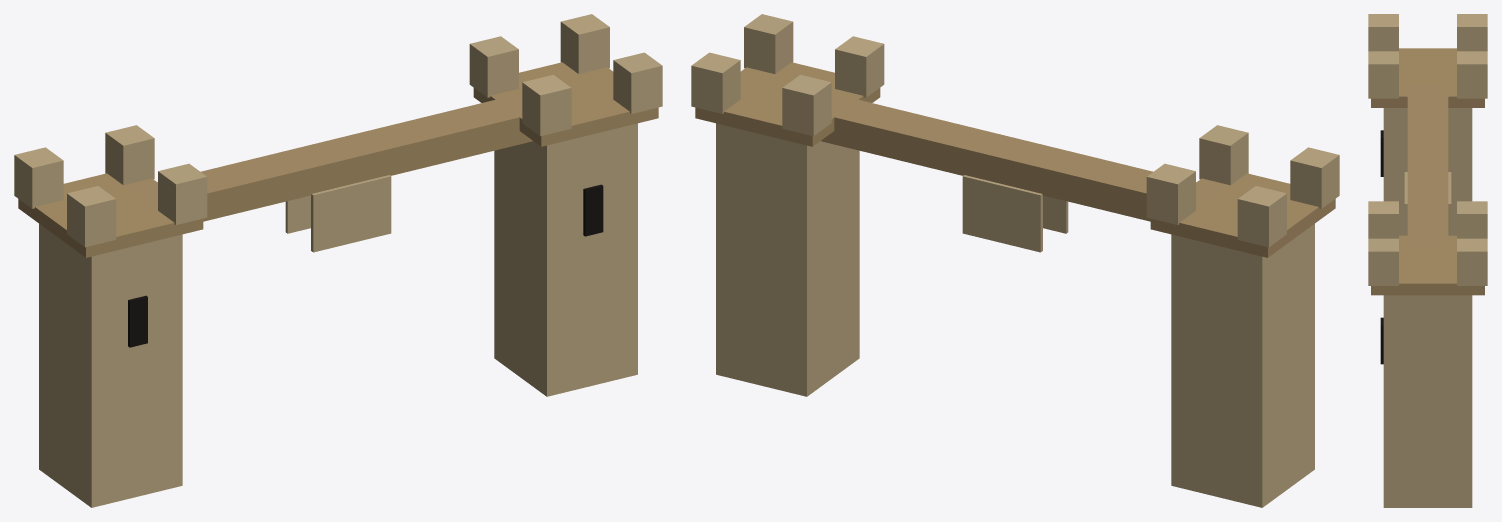
File: fennec_gate_broken.glb
3 views of the same model, side by side, from view 1: azimuth 30°, elevation 25°; view 2: azimuth 150°, elevation 25°; view 3: azimuth 270°, elevation 25° (orthographic). The views are drawn at different scales.
Visible parts, largest first — view 1: fennec_gate_piece0, fennec_gate_piece5, fennec_gate_piece3, fennec_gate_piece1, fennec_gate_piece9, fennec_gate_piece8, fennec_gate_piece6, fennec_gate_piece11, fennec_gate_piece10, fennec_gate_piece12, fennec_gate_piece7, fennec_gate_piece2; view 2: fennec_gate_piece1, fennec_gate_piece5, fennec_gate_piece3, fennec_gate_piece8, fennec_gate_piece10, fennec_gate_piece13, fennec_gate_piece6, fennec_gate_piece9, fennec_gate_piece0, fennec_gate_piece12, fennec_gate_piece7, fennec_gate_piece11; view 3: fennec_gate_piece3, fennec_gate_piece1, fennec_gate_piece5, fennec_gate_piece8, fennec_gate_piece0, fennec_gate_piece10, fennec_gate_piece9, fennec_gate_piece11, fennec_gate_piece2, fennec_gate_piece7, fennec_gate_piece13.
Boxes of the visible parts, left/top/right/bottom form: fennec_gate_piece0: left=48, top=198, right=187, bottom=507; fennec_gate_piece5: left=462, top=36, right=616, bottom=334; fennec_gate_piece3: left=502, top=111, right=658, bottom=396; fennec_gate_piece1: left=14, top=125, right=229, bottom=389; fennec_gate_piece9: left=298, top=125, right=453, bottom=251; fennec_gate_piece8: left=532, top=14, right=662, bottom=159; fennec_gate_piece6: left=39, top=229, right=143, bottom=464; fennec_gate_piece11: left=207, top=166, right=324, bottom=252; fennec_gate_piece10: left=225, top=133, right=358, bottom=233; fennec_gate_piece12: left=494, top=230, right=527, bottom=382; fennec_gate_piece7: left=390, top=108, right=495, bottom=231; fennec_gate_piece2: left=175, top=170, right=207, bottom=487; fennec_gate_piece1: left=1103, top=129, right=1339, bottom=428; fennec_gate_piece5: left=755, top=36, right=912, bottom=296; fennec_gate_piece3: left=695, top=110, right=859, bottom=388; fennec_gate_piece8: left=691, top=14, right=804, bottom=174; fennec_gate_piece10: left=973, top=139, right=1109, bottom=252; fennec_gate_piece13: left=1171, top=374, right=1273, bottom=507; fennec_gate_piece6: left=1190, top=181, right=1314, bottom=503; fennec_gate_piece9: left=924, top=116, right=1067, bottom=249; fennec_gate_piece0: left=1242, top=154, right=1314, bottom=499; fennec_gate_piece12: left=776, top=268, right=840, bottom=396; fennec_gate_piece7: left=806, top=113, right=976, bottom=268; fennec_gate_piece11: left=1058, top=148, right=1152, bottom=232; fennec_gate_piece3: left=1371, top=288, right=1484, bottom=507; fennec_gate_piece1: left=1368, top=14, right=1487, bottom=202; fennec_gate_piece5: left=1368, top=201, right=1487, bottom=318; fennec_gate_piece8: left=1368, top=238, right=1487, bottom=288; fennec_gate_piece0: left=1380, top=98, right=1407, bottom=235; fennec_gate_piece10: left=1404, top=124, right=1451, bottom=193; fennec_gate_piece9: left=1404, top=169, right=1451, bottom=235; fennec_gate_piece11: left=1404, top=108, right=1444, bottom=175; fennec_gate_piece2: left=1368, top=57, right=1386, bottom=107; fennec_gate_piece7: left=1407, top=192, right=1451, bottom=235; fennec_gate_piece13: left=1404, top=195, right=1456, bottom=235.
Bounding box in the file's own units: 4.44 × 2.29 × 0.94.
